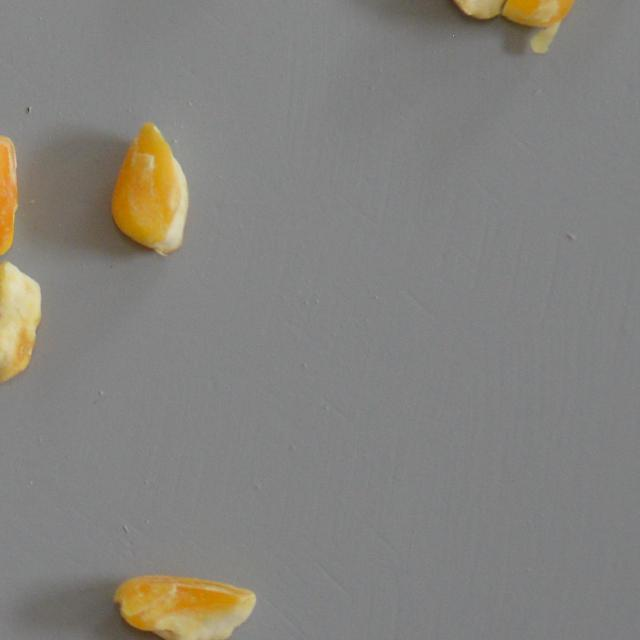estandar: (0, 261, 42, 384)
pelicula: (110, 118, 187, 255), (110, 574, 258, 640), (500, 0, 594, 54), (0, 132, 20, 260), (428, 0, 516, 21)
